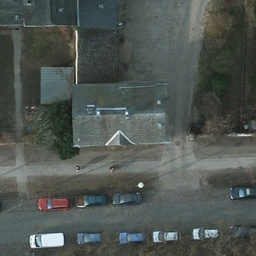car: (38, 194, 70, 211), (75, 192, 106, 208), (113, 190, 142, 207), (194, 224, 221, 242), (228, 184, 256, 201), (116, 230, 149, 244), (76, 229, 103, 244), (152, 230, 180, 242)
van: (30, 232, 66, 248)
